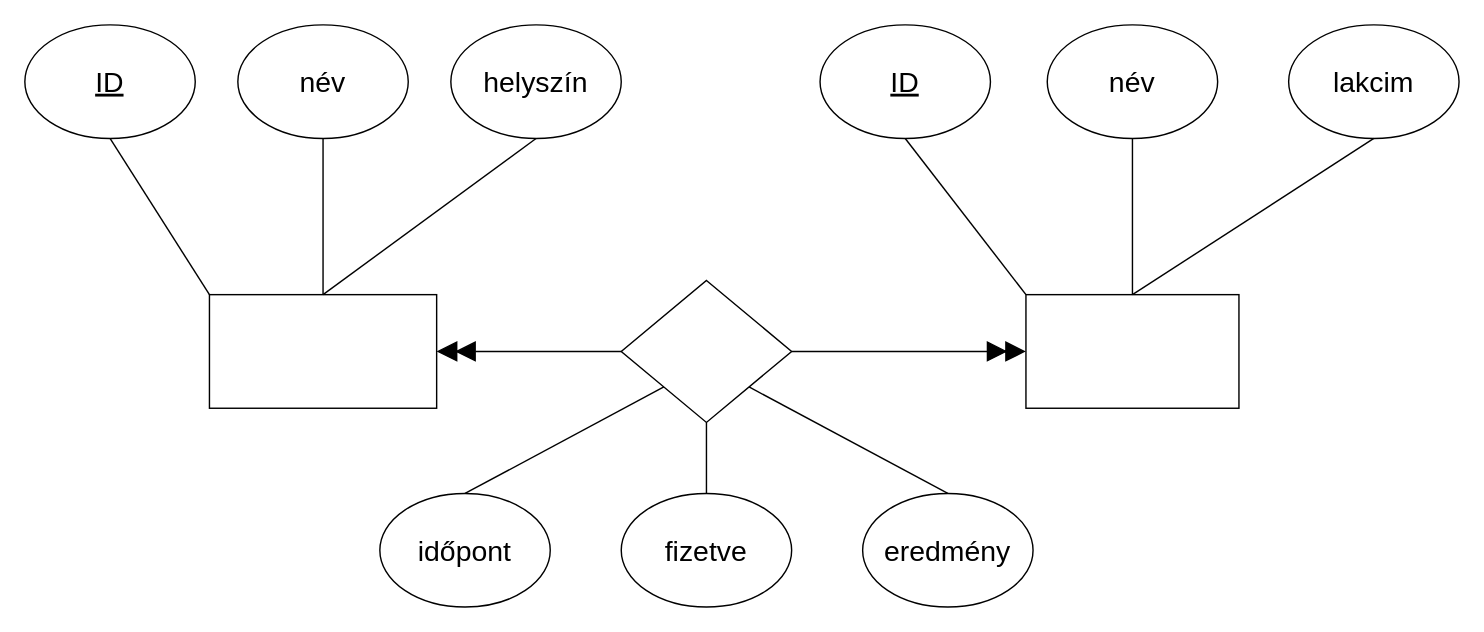
Image size: 1484x632. Some labels were removed from this diagram. Here are the shapes that lost their labels. From the top down, the centre of each, then its label:
At point (322, 350): "Tanfolyam".
At point (706, 350): "T_R".
At point (1132, 350): "Résztvevő".
